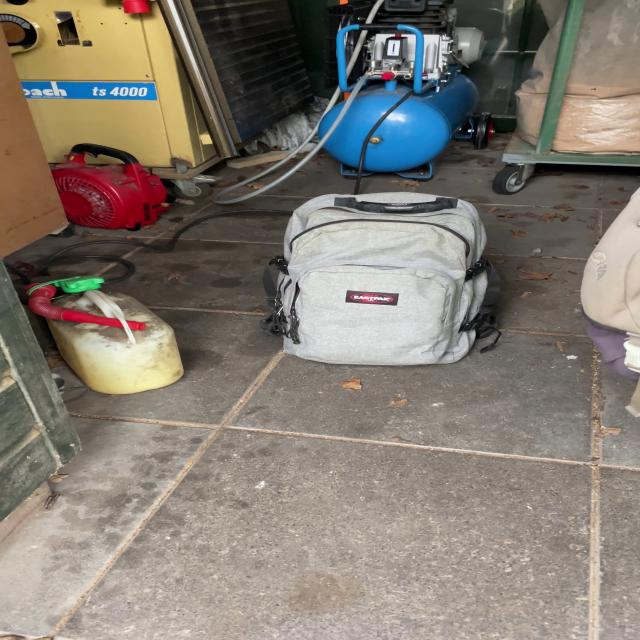backpack: (249, 185, 514, 372)
